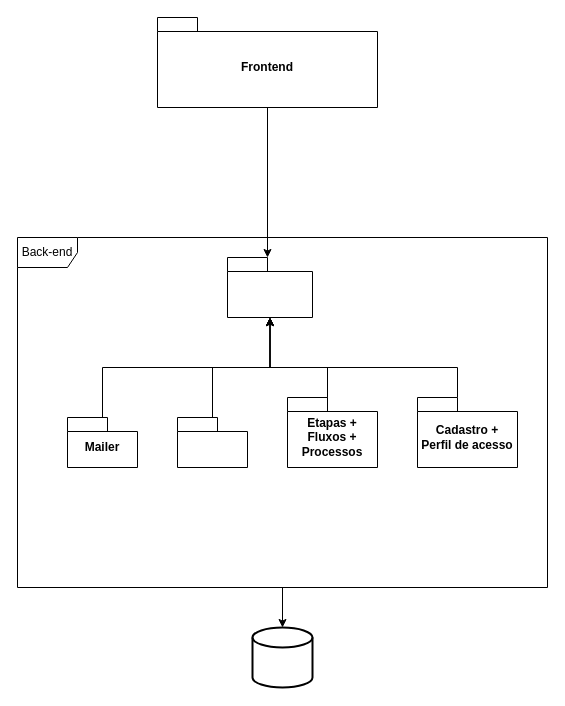
Some shapes in this 565 by 706 pixel diagram are drawn without their labels. The centre of each missing label's shape, as x and y in pixels:
"API Gateway" belongs at point 269,287.
"DB" belongs at point 282,657.
"Unidade" belongs at point 212,442.
